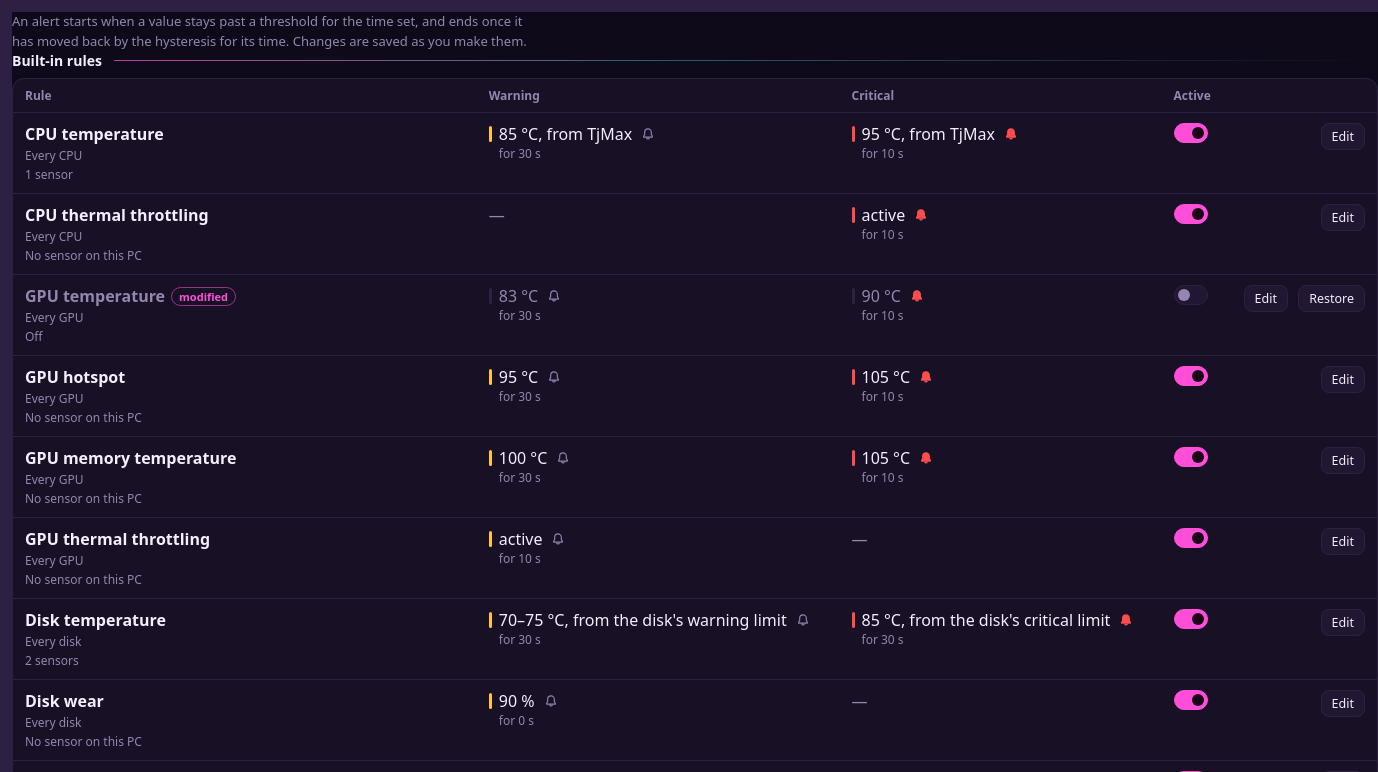
reset_calls_the_backend
Expected: the row "GPU temperature" is shown, [13,274,1377,356]
Expected: the text "modified" is shown, [171,286,236,306]
What coordinates should you click on to do the following:
click the button "Restore"
I would click on:
 (1332, 298)
Its box is [1298,285,1365,312].
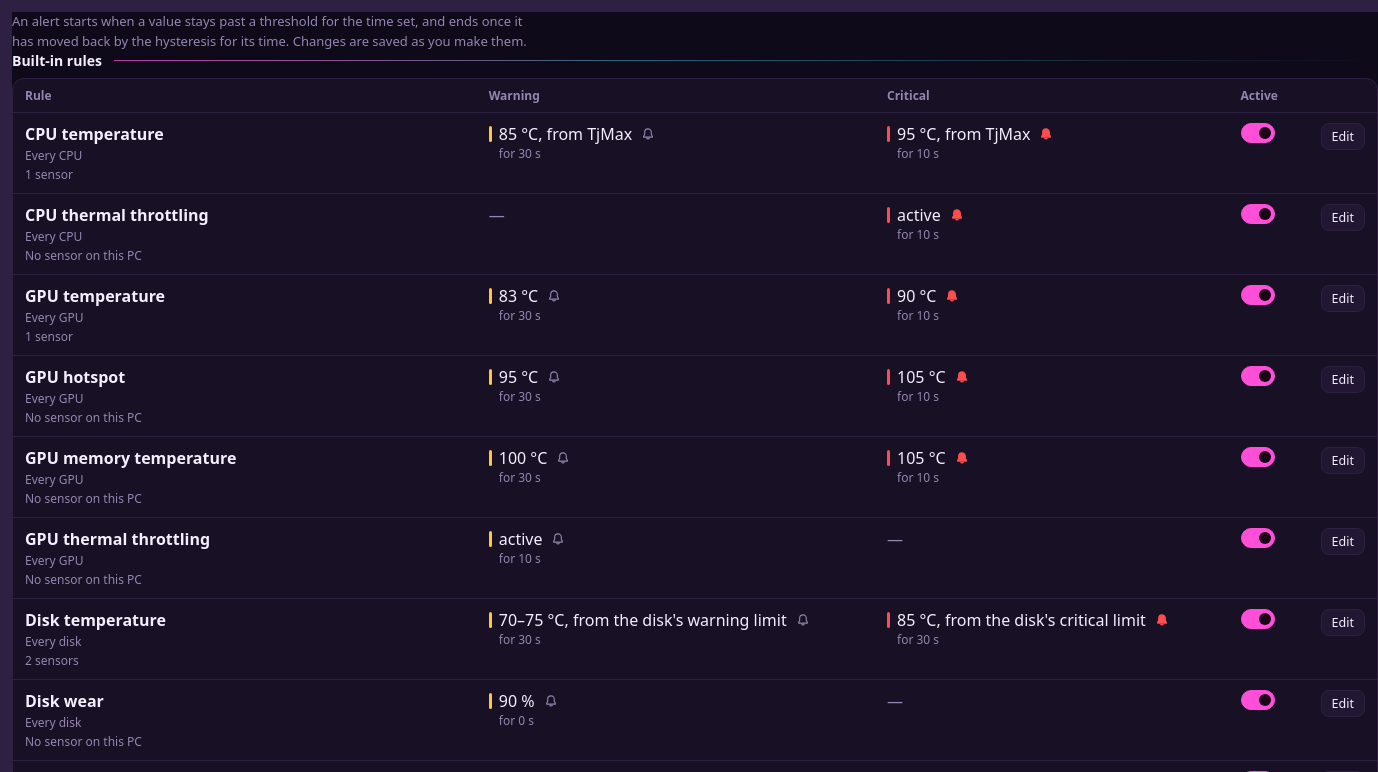
Now the text "modified" is gone
